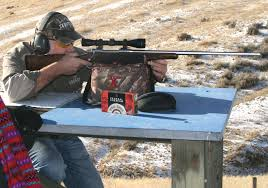Gun: (27, 39, 262, 66)
